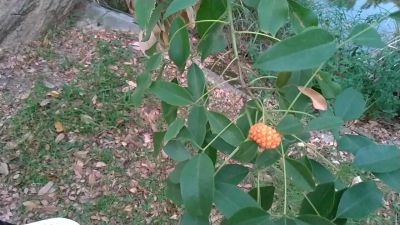eggs: (248, 122, 282, 148)
